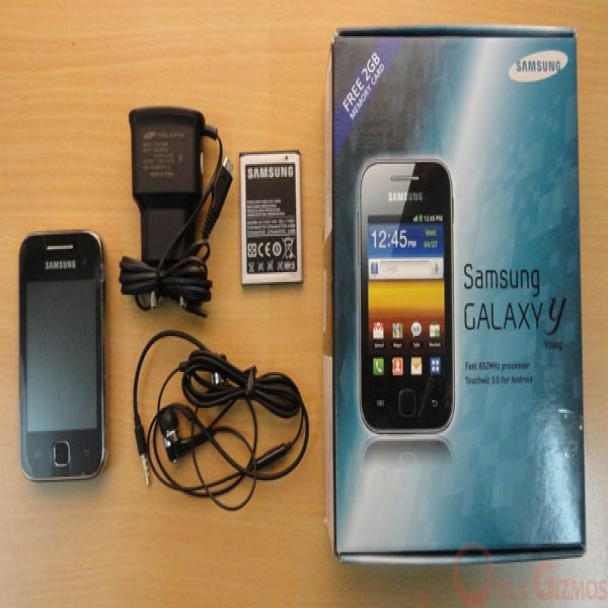Handphone: (17, 230, 109, 480)
